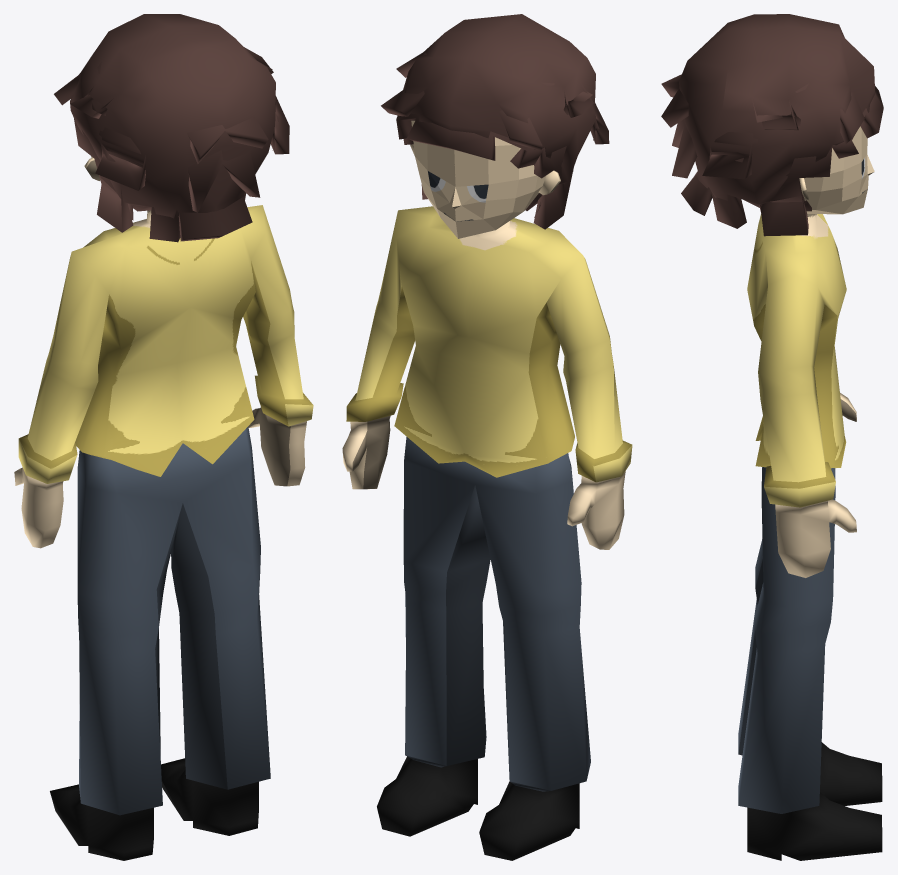
Rendered from M SHAGGY.glb.
3 renders of one model, left to right at view 1: azimuth 30°, elevation 25°; view 2: azimuth 150°, elevation 25°; view 3: azimuth 270°, elevation 25°, orthographic. The views are drawn at different scales.
Visible parts, largest first — view 1: MEN OFFICE, SHAGGY; view 2: MEN OFFICE, SHAGGY, MAN HEAD; view 3: MEN OFFICE, SHAGGY, MAN HEAD.
Boxes of the visible parts, x1,y1,x2,y2 form: MEN OFFICE: [14, 205, 313, 860]; SHAGGY: [54, 14, 289, 242]; MEN OFFICE: [342, 206, 632, 860]; SHAGGY: [381, 14, 609, 229]; MAN HEAD: [411, 120, 545, 238]; MEN OFFICE: [738, 214, 882, 860]; SHAGGY: [661, 14, 883, 236]; MAN HEAD: [799, 126, 874, 214].
Size of the model in its own units: 3.32 by 9.21 by 2.34.
4 materials, 4 textured.
